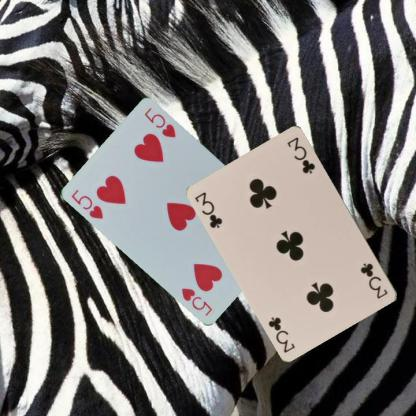3c: (192, 189, 225, 230), (358, 260, 390, 300)
5h: (69, 186, 105, 220)
